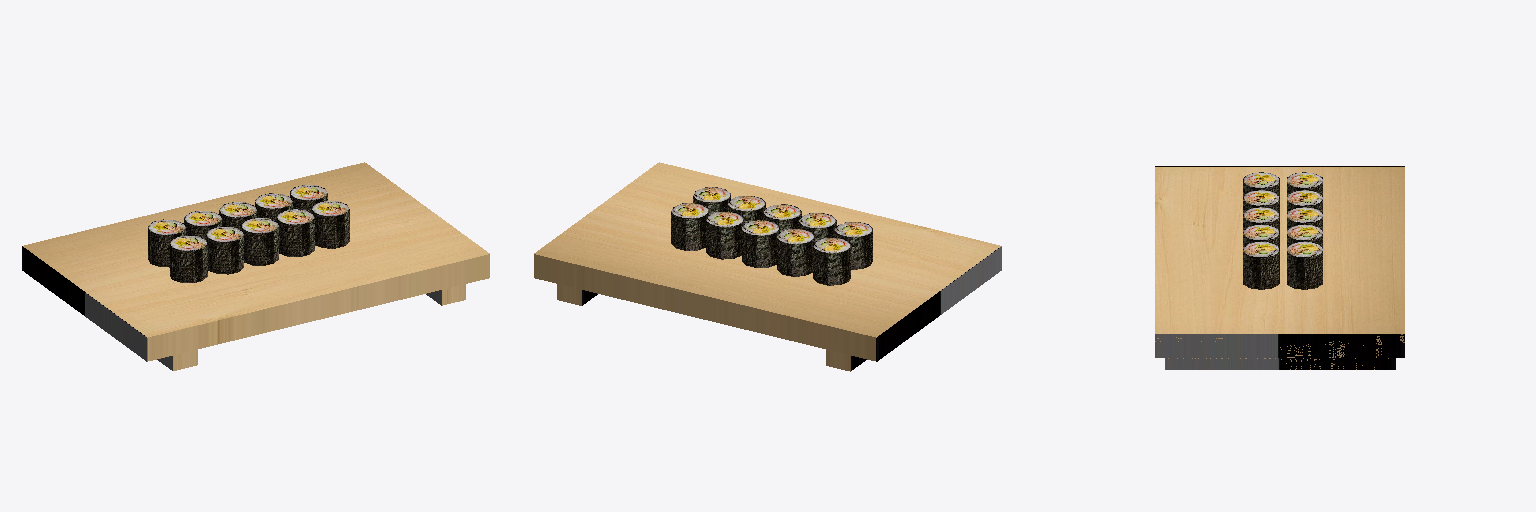
3 renders of one model, left to right at view 1: azimuth 30°, elevation 25°; view 2: azimuth 150°, elevation 25°; view 3: azimuth 270°, elevation 25°, orthographic.
Bounding box in the file's own units: 7.51 × 1.63 × 4.75.
Materials: 1 (1 with a texture image).